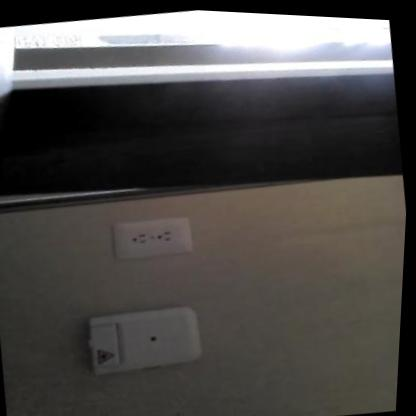OUTLET: (109, 212, 194, 263)
